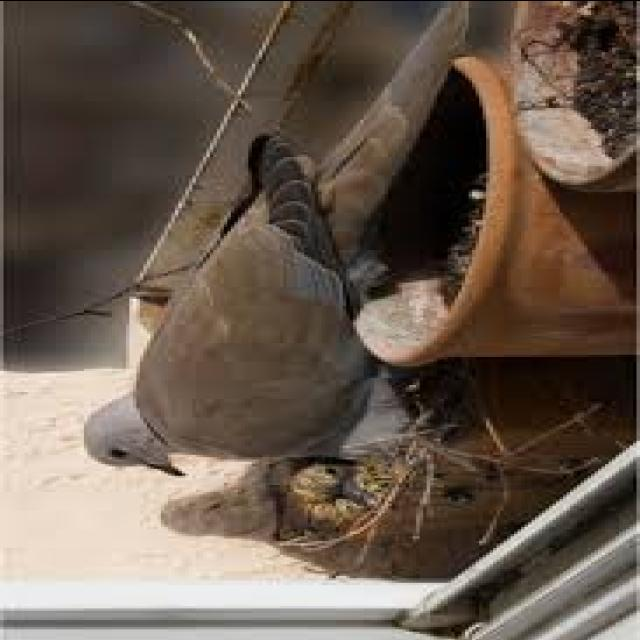pigeon: (64, 114, 428, 488)
